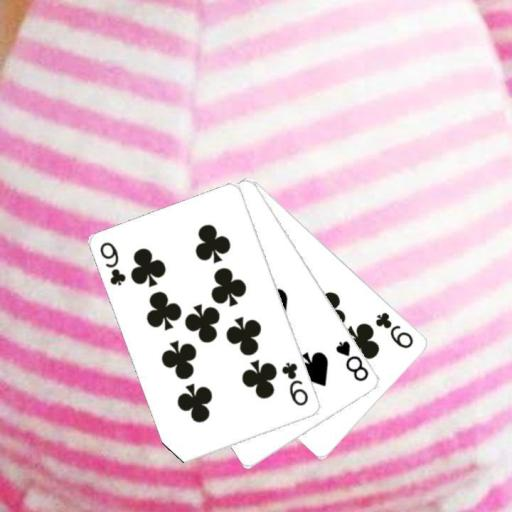8S: (333, 337, 370, 383)
9C: (373, 309, 416, 351), (279, 359, 310, 408), (97, 239, 128, 288)
